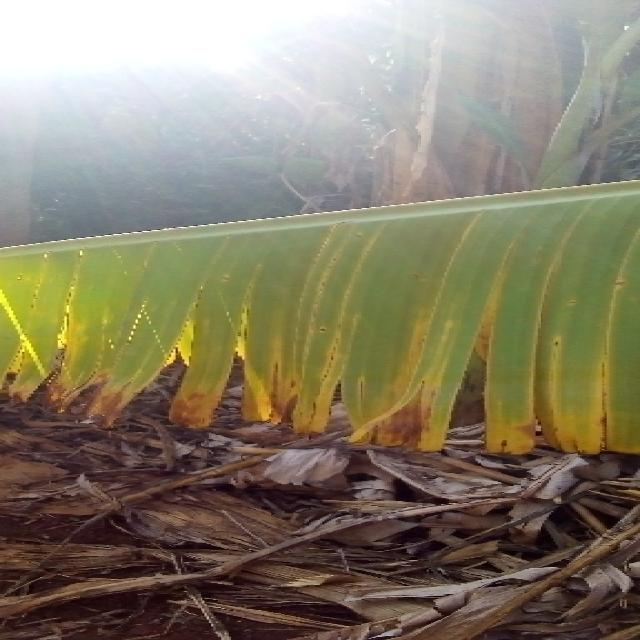Cordana: (0, 183, 640, 488)
